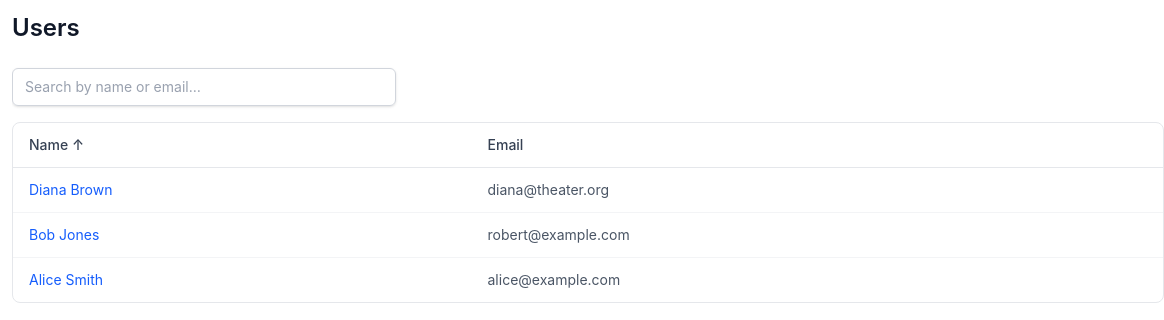
Test case: UsersList search filtering › filters by first name
Type "alice" into the search field with placeholder "Search by name or email…".
click(204, 87); type("alice")  # box top-left (12, 68), bottom-right (396, 106)
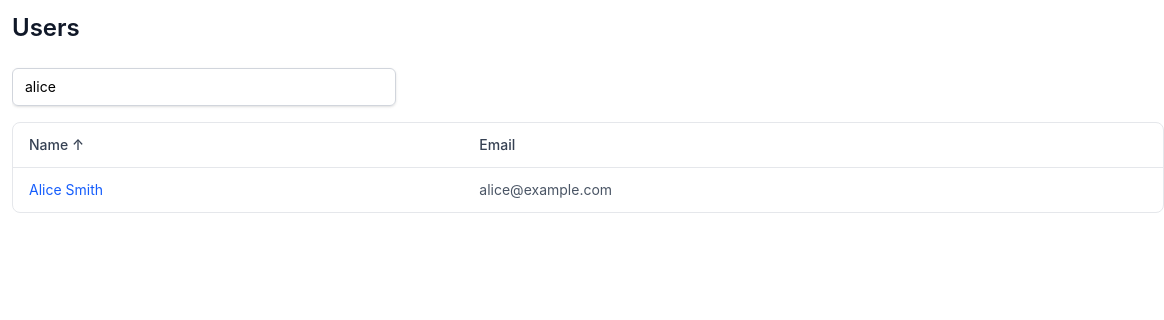
expect the link "Alice Smith" is shown: met, box top-left (29, 181), bottom-right (103, 198)
expect the link "Bob Jones" is gone: met
expect the link "Diana Brown" is gone: met
